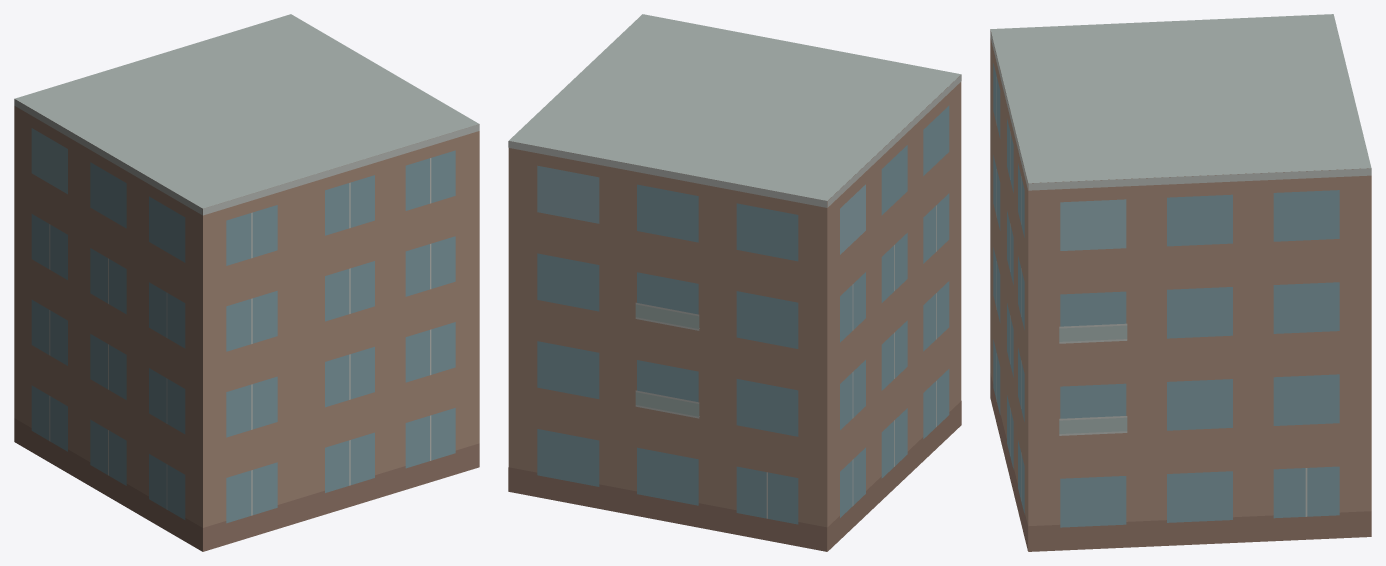
File: residential-8605238e-4e05-4b16-aa13-2c4d76097554.glb
3 renders of one model, left to right at view 1: azimuth 30°, elevation 25°; view 2: azimuth 150°, elevation 25°; view 3: azimuth 270°, elevation 25°, orthographic. The views are drawn at different scales.
Visible parts, largest first — view 1: residential-8605238e-4e05-4b16-aa13-2c4d76097554.tmp; view 2: residential-8605238e-4e05-4b16-aa13-2c4d76097554.tmp; view 3: residential-8605238e-4e05-4b16-aa13-2c4d76097554.tmp.
Part boxes in pixels (x1,y1,x2,y2): residential-8605238e-4e05-4b16-aa13-2c4d76097554.tmp: [14, 14, 479, 551]; residential-8605238e-4e05-4b16-aa13-2c4d76097554.tmp: [508, 14, 961, 551]; residential-8605238e-4e05-4b16-aa13-2c4d76097554.tmp: [990, 14, 1371, 551].
Bounding box in the file's own units: 12.03 × 12.2 × 11.44.
